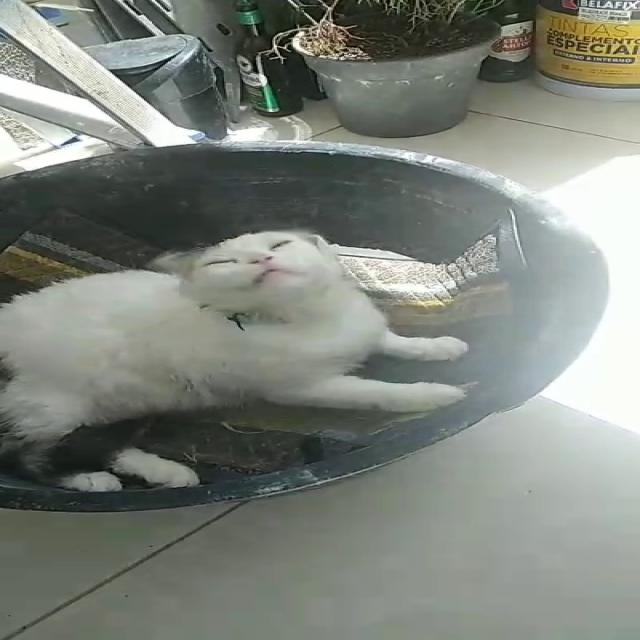Simba: (1, 209, 520, 499)
